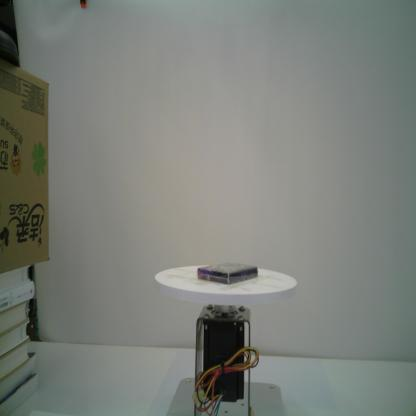Gum: (196, 261, 259, 287)
